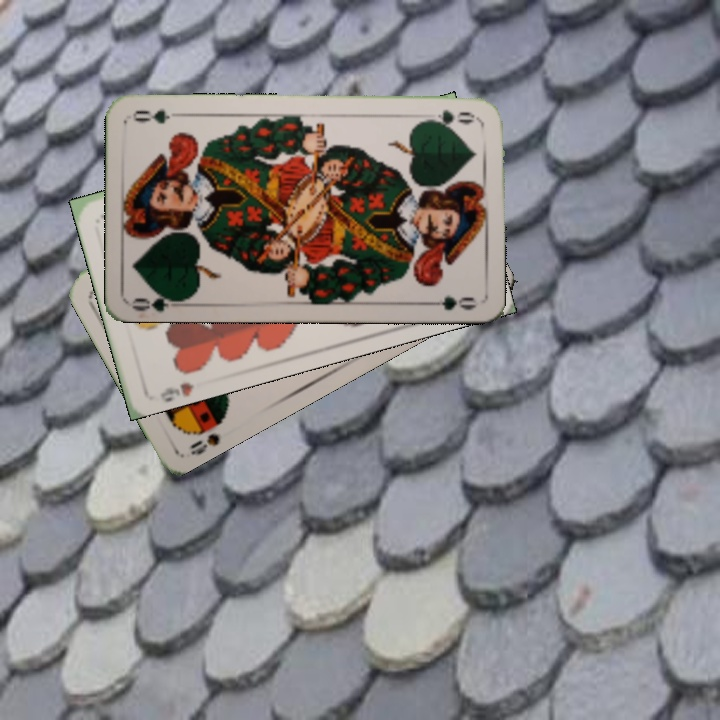GO: (129, 287, 189, 314), (420, 106, 479, 129)
H9: (156, 378, 196, 403)
SO: (186, 411, 229, 458)
